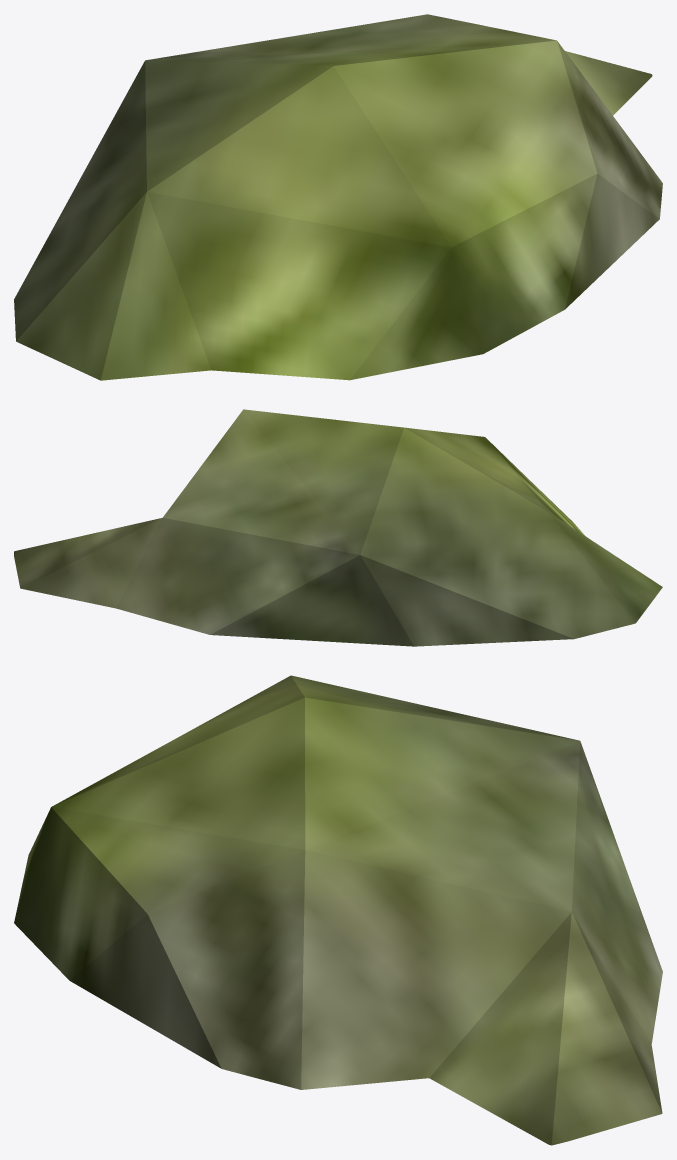
3 views of the same model, one above another, from view 1: azimuth 30°, elevation 25°; view 2: azimuth 150°, elevation 25°; view 3: azimuth 270°, elevation 25° (orthographic). The views are drawn at different scales.
Bounding box in the file's own units: 0.6032 × 0.1505 × 0.4095.
Materials: 1 (1 with a texture image).
